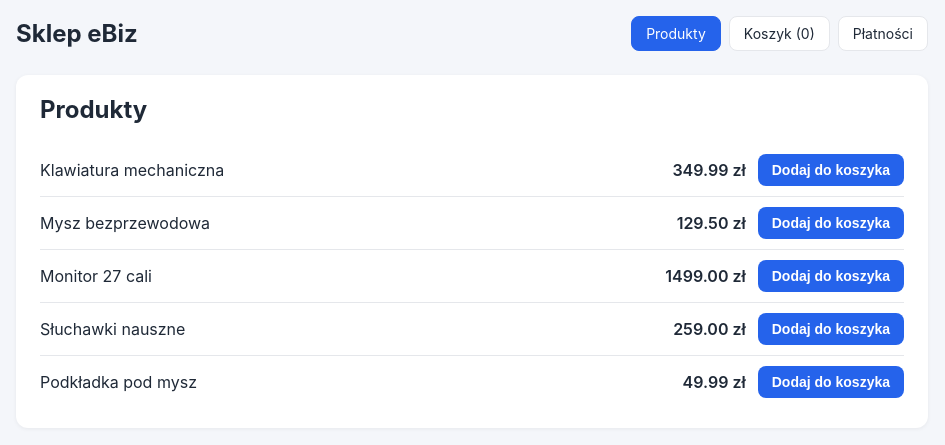
Scenario: 12 - Suma w koszyku (wiele produktów) › sumuje ceny wielu różnych produktów
Step 1. Click the button "Dodaj do koszyka" in the row of "Mysz bezprzewodowa" → (831, 223), box [758,207,904,239]
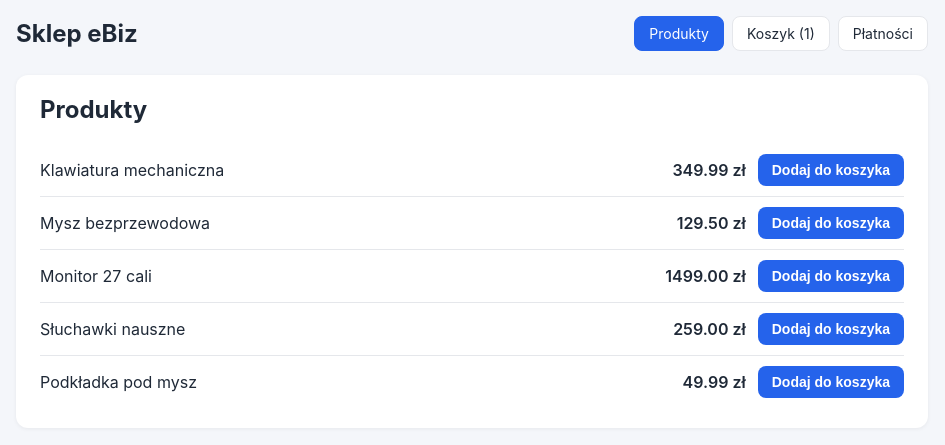
Step 2. Click the button "Dodaj do koszyka" in the row of "Słuchawki nauszne" → (831, 329), box [758,313,904,345]
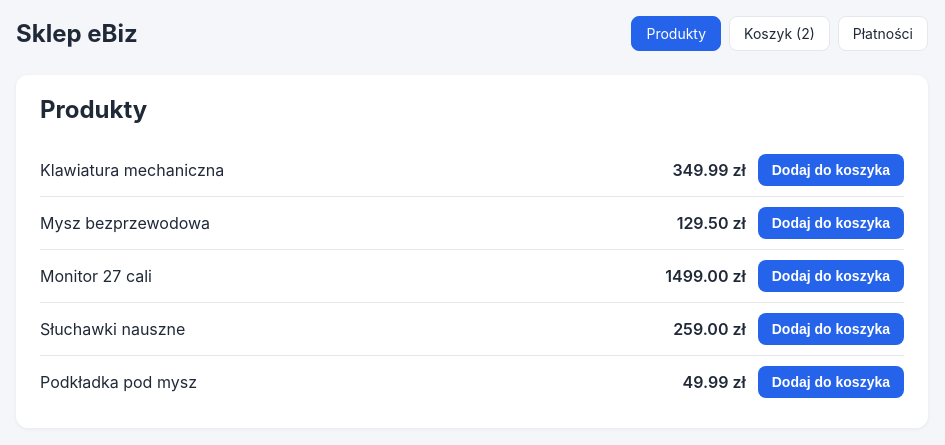
Step 3. Click the link "Koszyk (2)" → (780, 34), box [729,16,830,51]
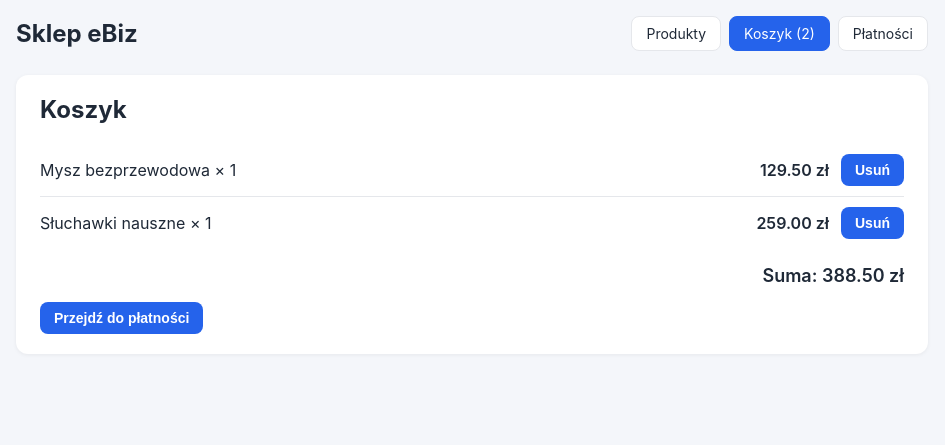
Result: the number of list items is 2 at [40,144,904,197]; [40,197,904,249]
Result: the text with class "total" reads "Suma: 388.50 zł" at [762,265,904,286]
